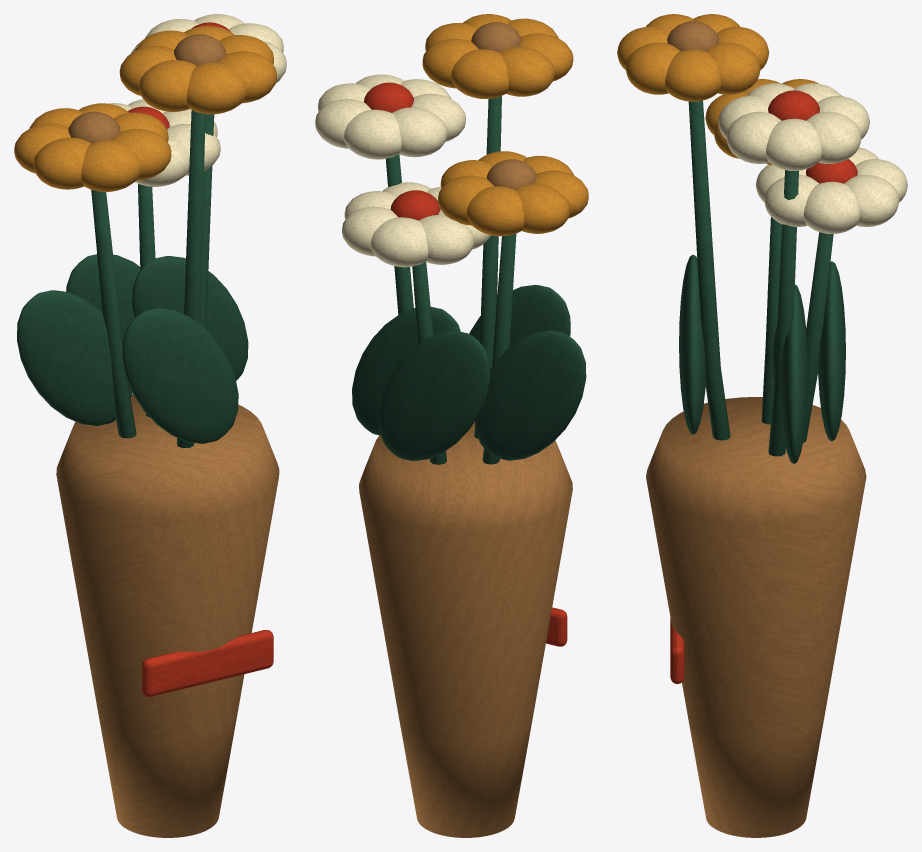
The model's file is flowers.fbx.
The picture shows the model from 3 angles, left to right: view 1: azimuth 30°, elevation 25°; view 2: azimuth 150°, elevation 25°; view 3: azimuth 270°, elevation 25°; orthographic projection. The views are drawn at different scales.
Parts seen in each view (by area): view 1: Wrapped kraft bouquet, Bouquet leaf.002, Bouquet leaf, Bouquet leaf.001, Bouquet ribbon, Green stem, Green stem.002, Flower petal.019, Bouquet leaf.003, Flower petal.005, Flower petal.004, Flower petal.018 (+15 smaller); view 2: Wrapped kraft bouquet, Bouquet leaf.003, Bouquet leaf, Bouquet leaf.001, Bouquet leaf.002, Green stem.002, Flower petal.009, Flower petal.023, Flower petal.002, Flower petal.016, Green stem, Flower petal.010 (+24 smaller); view 3: Wrapped kraft bouquet, Green stem.002, Bouquet leaf.003, Bouquet leaf.002, Bouquet leaf.001, Green stem.001, Green stem.003, Flower petal.014, Flower petal.021, Flower petal.007, Green stem, Flower petal.020 (+16 smaller).
Boxes of the visible parts, <box> form: Wrapped kraft bouquet: <box>56,394,279,837</box>; Bouquet leaf.002: <box>122,308,238,443</box>; Bouquet leaf: <box>17,290,132,425</box>; Bouquet leaf.001: <box>132,256,248,380</box>; Bouquet ribbon: <box>142,630,273,696</box>; Green stem: <box>91,189,136,438</box>; Green stem.002: <box>176,110,205,448</box>; Flower petal.019: <box>187,62,246,114</box>; Bouquet leaf.003: <box>66,254,140,340</box>; Flower petal.005: <box>81,140,141,191</box>; Flower petal.004: <box>33,137,90,189</box>; Flower petal.018: <box>139,60,196,111</box>; Wrapped kraft bouquet: <box>359,421,572,837</box>; Bouquet leaf.003: <box>378,331,490,460</box>; Bouquet leaf: <box>475,330,586,460</box>; Bouquet leaf.001: <box>352,307,460,435</box>; Bouquet leaf.002: <box>469,284,570,346</box>; Green stem.002: <box>474,96,501,438</box>; Flower petal.009: <box>344,109,401,159</box>; Flower petal.023: <box>370,217,428,267</box>; Flower petal.002: <box>466,186,524,236</box>; Flower petal.016: <box>451,49,508,98</box>; Green stem: <box>482,234,516,464</box>; Flower petal.010: <box>392,107,447,157</box>; Wrapped kraft bouquet: <box>646,397,866,837</box>; Green stem.002: <box>688,100,730,440</box>; Bouquet leaf.003: <box>818,261,845,441</box>; Bouquet leaf.002: <box>679,254,705,434</box>; Bouquet leaf.001: <box>780,284,808,463</box>; Green stem.001: <box>768,170,798,456</box>; Green stem.003: <box>803,232,833,442</box>; Flower petal.014: <box>665,49,721,101</box>; Flower petal.021: <box>803,181,859,233</box>; Flower petal.007: <box>766,118,821,170</box>; Green stem: <box>761,217,782,424</box>; Flower petal.020: <box>625,42,680,94</box>.
Bounding box in the file's own units: 97.42 × 278 × 92.3.
5 materials, 5 textured.
